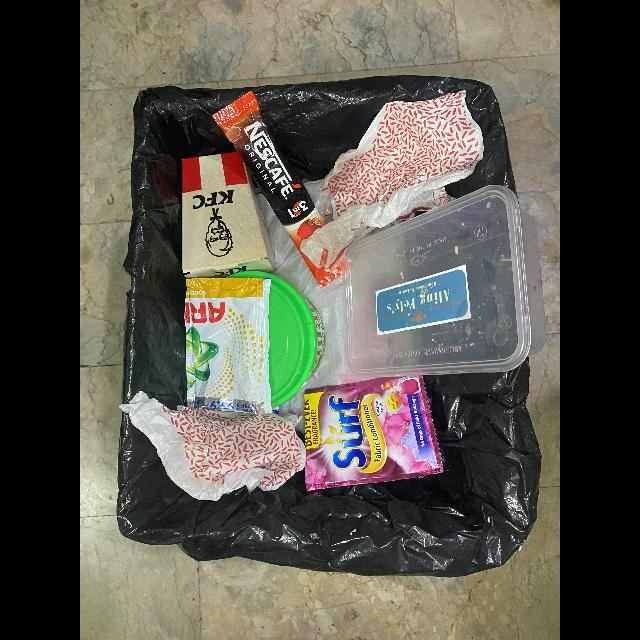cardboard: (182, 152, 277, 279)
paper: (300, 91, 484, 273), (119, 391, 306, 502)
plastic_container: (346, 186, 547, 379), (219, 271, 326, 409)
plastic_sachet: (213, 91, 351, 288), (305, 376, 444, 491), (184, 278, 273, 416)
